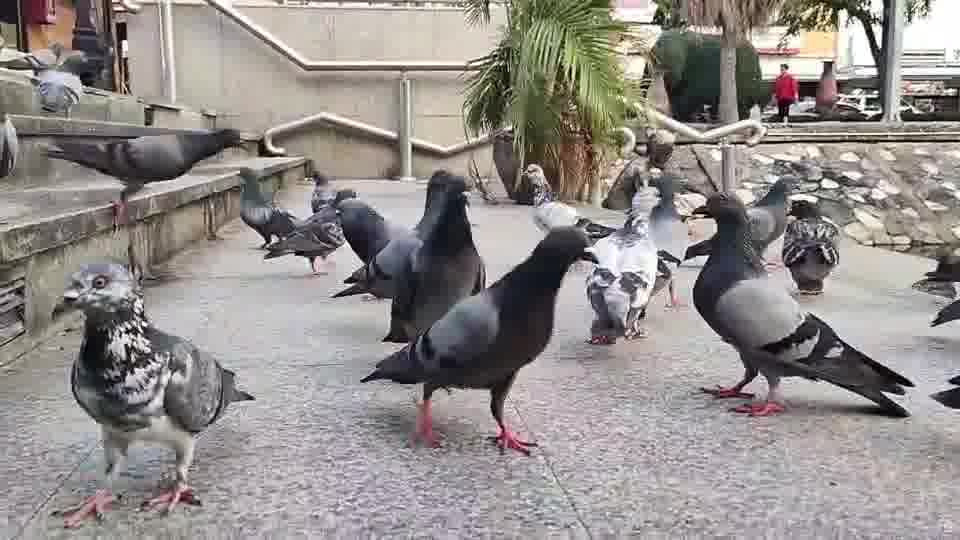Pigeon: (359, 223, 599, 455), (682, 189, 915, 418), (59, 261, 255, 528), (329, 168, 486, 344), (42, 126, 245, 230), (781, 198, 840, 294), (237, 166, 299, 249), (308, 169, 357, 213), (928, 373, 959, 410), (928, 297, 959, 327)
